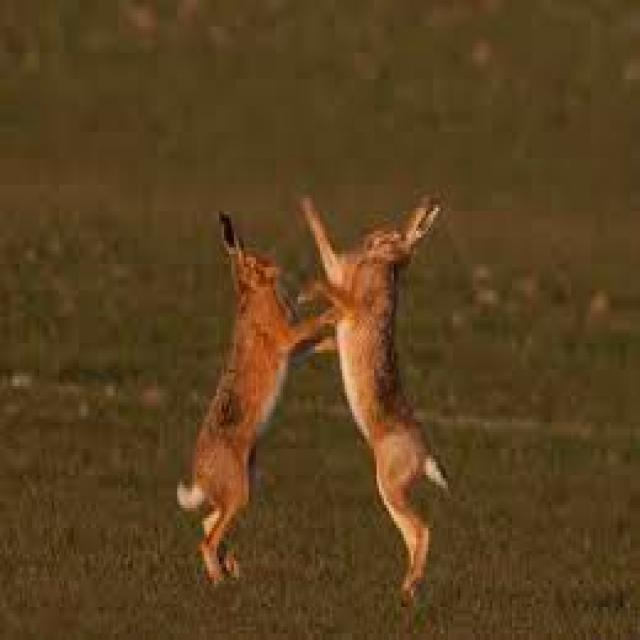hare: (300, 198, 446, 594), (177, 211, 332, 581)
